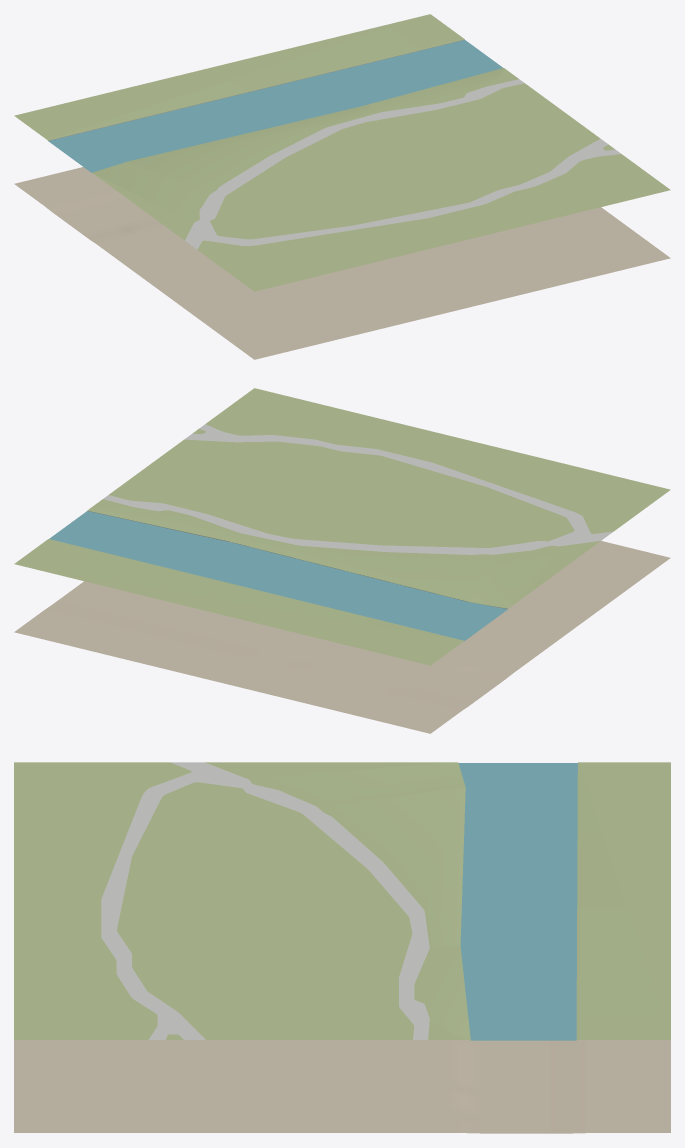
The picture shows the model from 3 angles, top to bottom: view 1: azimuth 30°, elevation 25°; view 2: azimuth 150°, elevation 25°; view 3: azimuth 270°, elevation 25°; orthographic projection. The views are drawn at different scales.
Visible parts, largest first — view 1: s_-7_-7__grass, s_-7_-7__soil, s_-7_-7__water, s_-7_-7__stone_paving; view 2: s_-7_-7__grass, s_-7_-7__soil, s_-7_-7__water, s_-7_-7__stone_paving; view 3: s_-7_-7__grass, s_-7_-7__soil, s_-7_-7__water, s_-7_-7__stone_paving.
Part boxes in pixels (<box>): s_-7_-7__grass: <box>14,14,670,291</box>; s_-7_-7__soil: <box>14,167,670,359</box>; s_-7_-7__water: <box>48,40,502,172</box>; s_-7_-7__stone_paving: <box>185,79,620,249</box>; s_-7_-7__grass: <box>14,388,670,665</box>; s_-7_-7__soil: <box>14,541,670,733</box>; s_-7_-7__water: <box>49,511,507,640</box>; s_-7_-7__stone_paving: <box>103,424,612,554</box>; s_-7_-7__grass: <box>14,762,670,1040</box>; s_-7_-7__soil: <box>14,1040,670,1133</box>; s_-7_-7__water: <box>458,763,577,1040</box>; s_-7_-7__stone_paving: <box>101,762,429,1039</box>.
Bounding box in the file's own units: 128 × 20.14 × 128.
